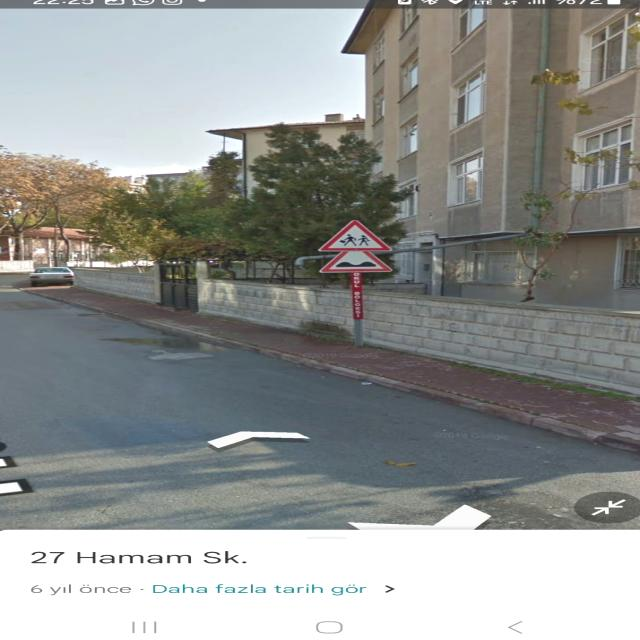okul_gecidi: (319, 219, 394, 251)
